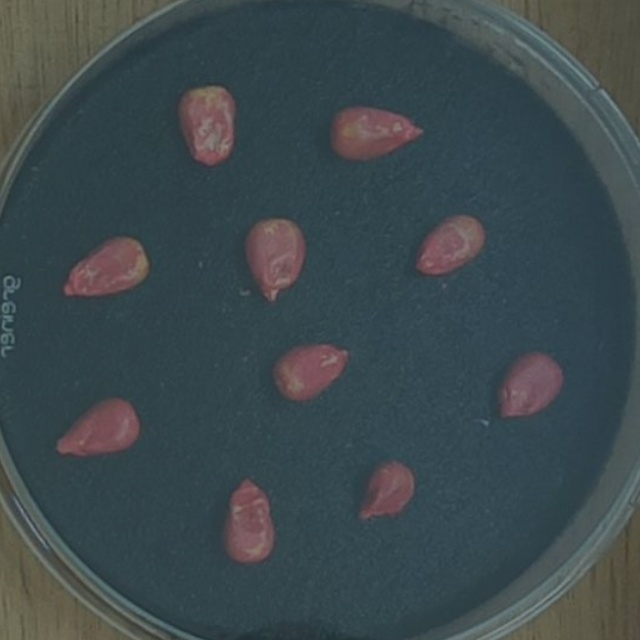Zea mays: (53, 223, 156, 306), (322, 94, 430, 172), (47, 385, 149, 466), (263, 331, 360, 414), (236, 207, 312, 311), (403, 203, 496, 285), (488, 342, 572, 429), (171, 76, 244, 171), (215, 466, 280, 569), (346, 449, 423, 529)
